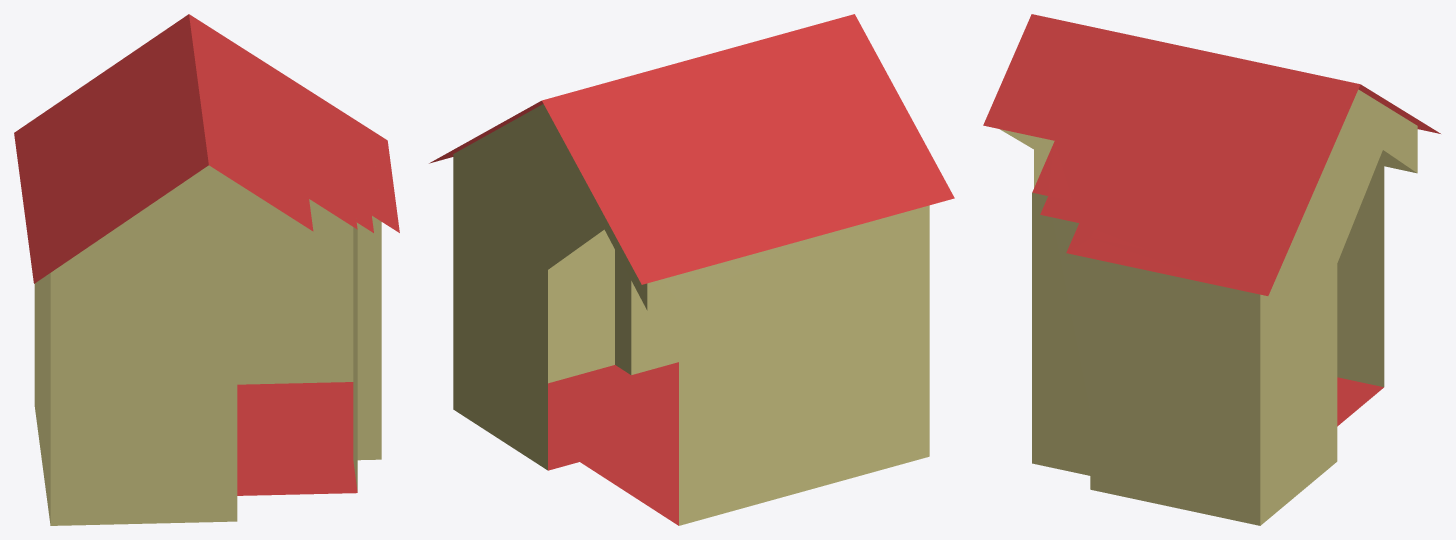
3 views of the same model, side by side, from view 1: azimuth 30°, elevation 25°; view 2: azimuth 150°, elevation 25°; view 3: azimuth 270°, elevation 25° (orthographic). The views are drawn at different scales.
Size of the model in its own units: 14.15 by 12.74 by 11.48.
